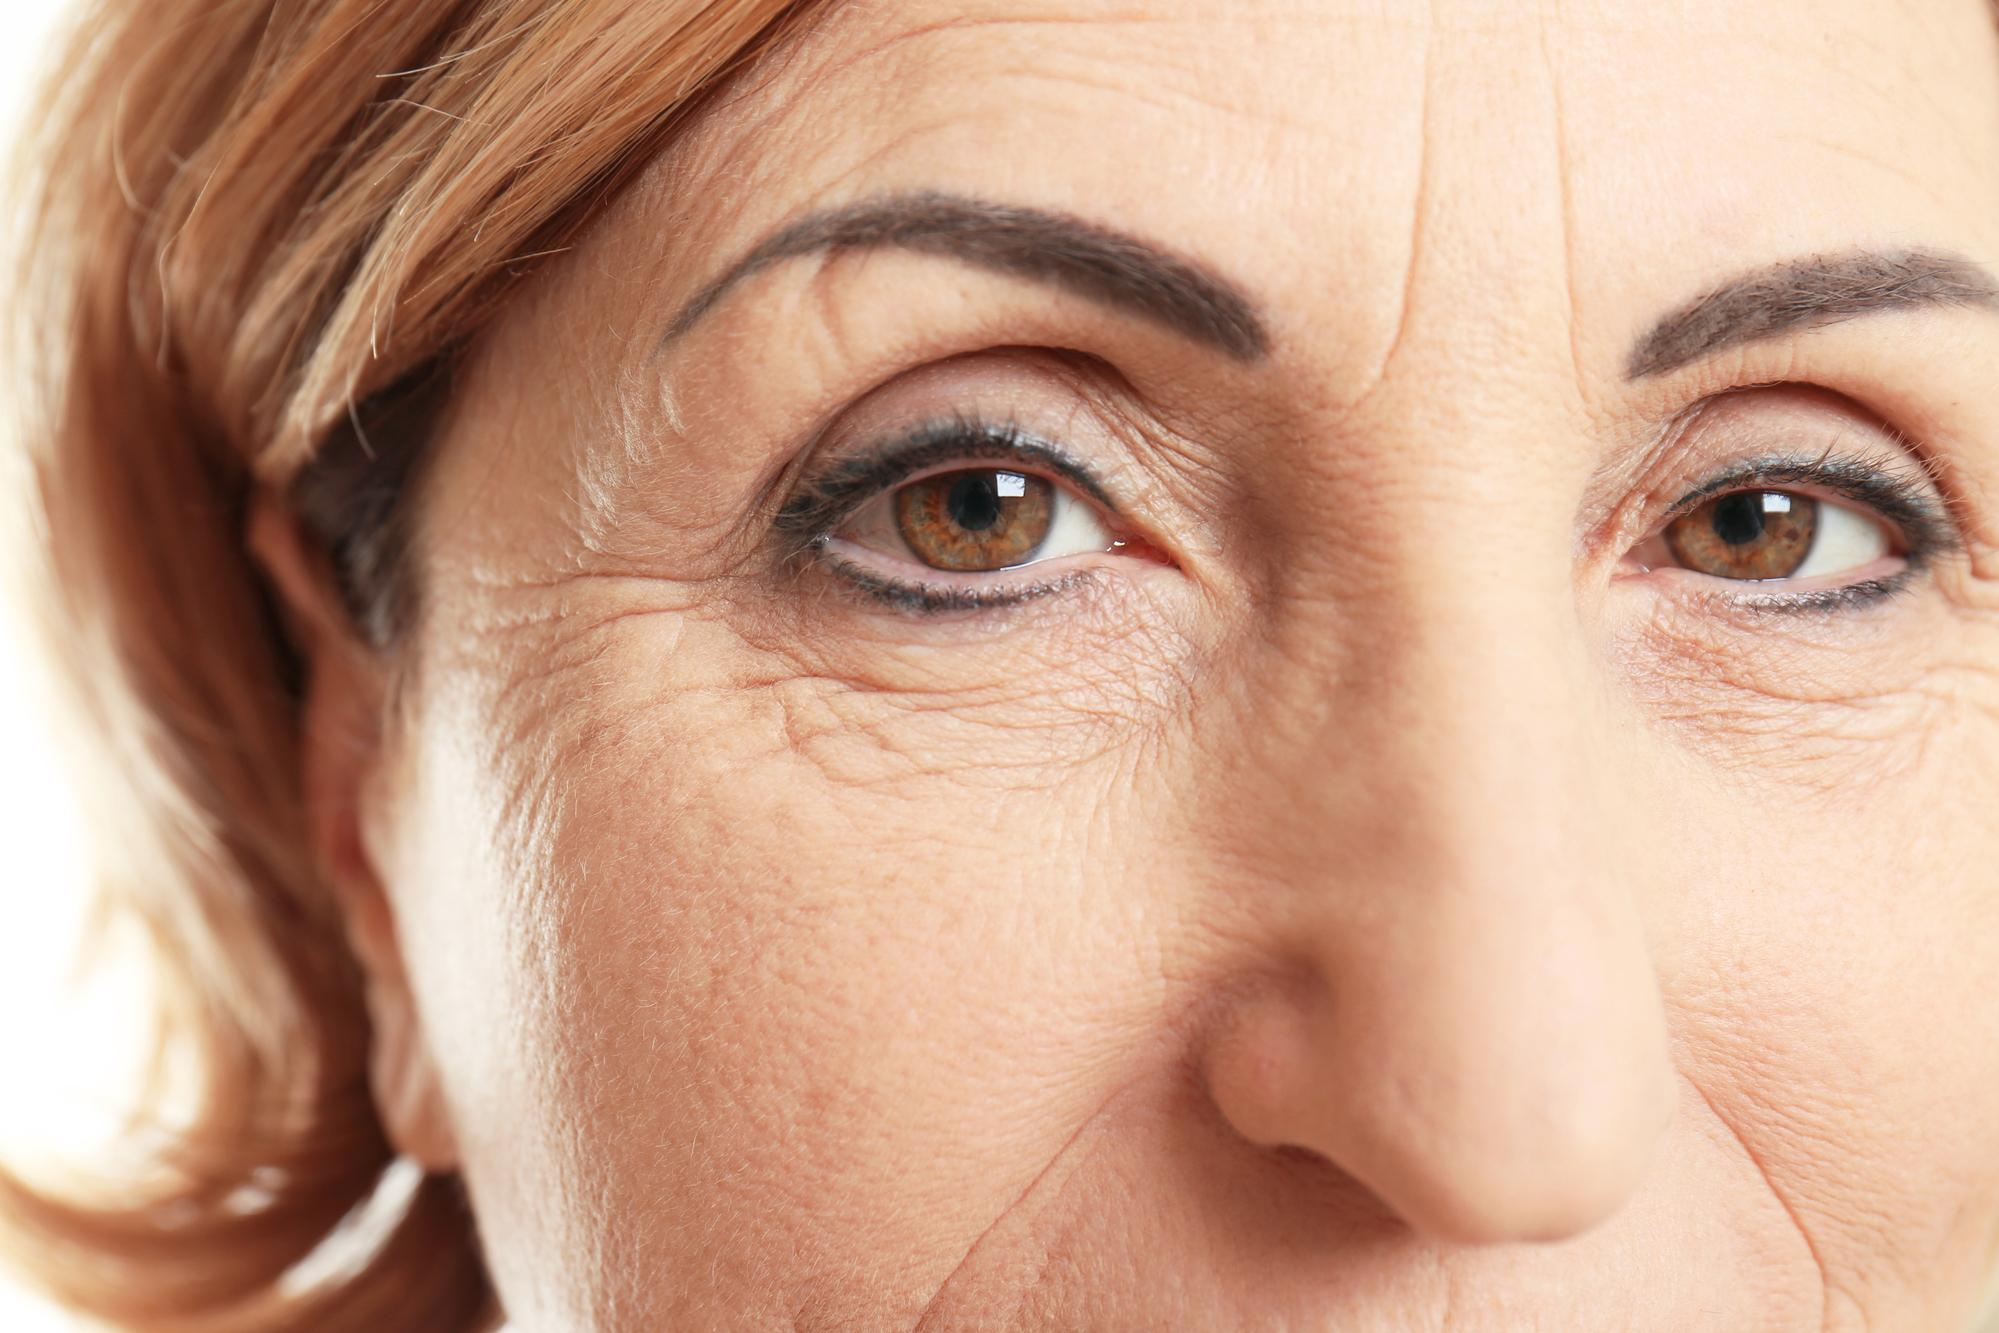Dry-Skin: (494, 341, 785, 967), (861, 1065, 1285, 1333), (1575, 539, 1940, 802), (1651, 934, 1911, 1281), (848, 622, 1240, 836)
